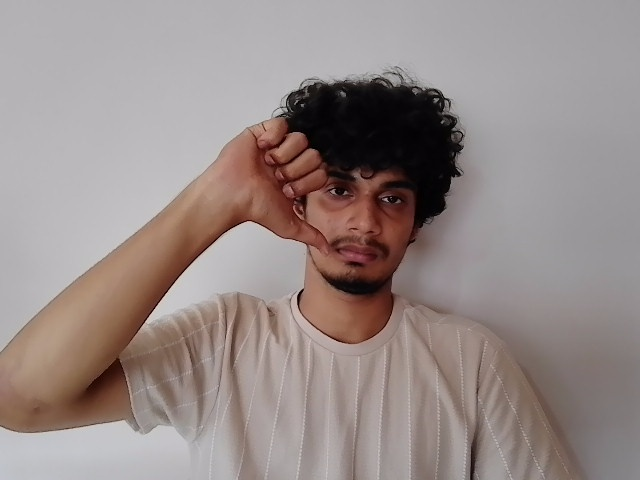drink: (214, 116, 426, 283)
